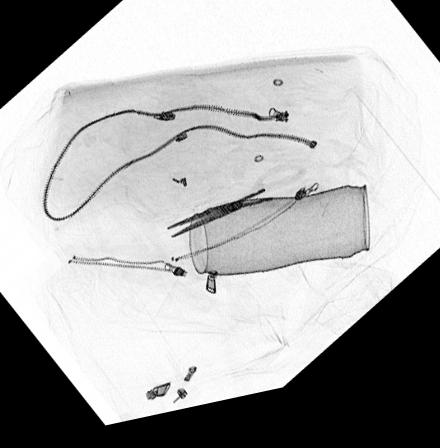Scissors: (158, 173, 325, 246)
